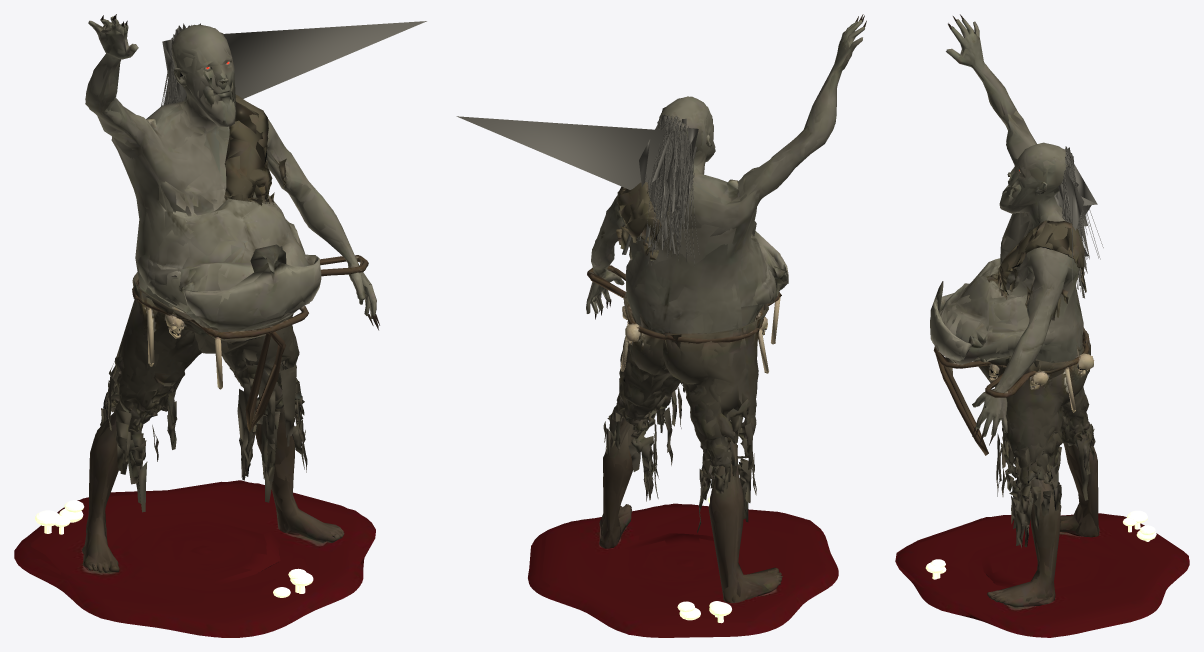
Rendered from packmaster-blender.glb.
3 views of the same model, side by side, from view 1: azimuth 30°, elevation 25°; view 2: azimuth 150°, elevation 25°; view 3: azimuth 270°, elevation 25° (orthographic). The views are drawn at different scales.
Visible parts, largest first — view 1: packmaster-blender_lod0_body, packmaster-blender_lod1_body, packmaster-blender_lod2_body, plain_hair.002, plain_shroom.001, plain_shroom.002, plain_hair.001; view 2: packmaster-blender_lod0_body, packmaster-blender_lod1_body, packmaster-blender_lod2_body, plain_hair.002, plain_hair.001, plain_shroom.001; view 3: packmaster-blender_lod0_body, packmaster-blender_lod1_body, packmaster-blender_lod2_body, plain_hair.001, plain_hair.002, plain_shroom.001, plain_shroom.002.
Boxes of the visible parts, x1,y1,x2,y2 form: packmaster-blender_lod0_body: (14,16,376,637); packmaster-blender_lod1_body: (17,16,375,637); packmaster-blender_lod2_body: (14,22,376,637); plain_hair.002: (161,21,426,104); plain_shroom.001: (35,500,313,597); plain_shroom.002: (35,500,312,597); plain_hair.001: (161,24,198,106); packmaster-blender_lod0_body: (529,20,864,637); packmaster-blender_lod1_body: (528,20,864,637); packmaster-blender_lod2_body: (529,31,857,637); plain_hair.002: (456,114,698,261); plain_hair.001: (626,115,699,266); plain_shroom.001: (678,497,731,623); packmaster-blender_lod0_body: (896,19,1189,637); packmaster-blender_lod1_body: (896,19,1189,633); packmaster-blender_lod2_body: (895,25,1189,637); plain_hair.001: (1054,148,1103,291); plain_hair.002: (1058,146,1097,298); plain_shroom.001: (925,510,1156,579); plain_shroom.002: (925,510,1156,579).
Size of the model in its own units: 0.9281 by 1.39 by 0.735.
7 materials, 1 textured.
